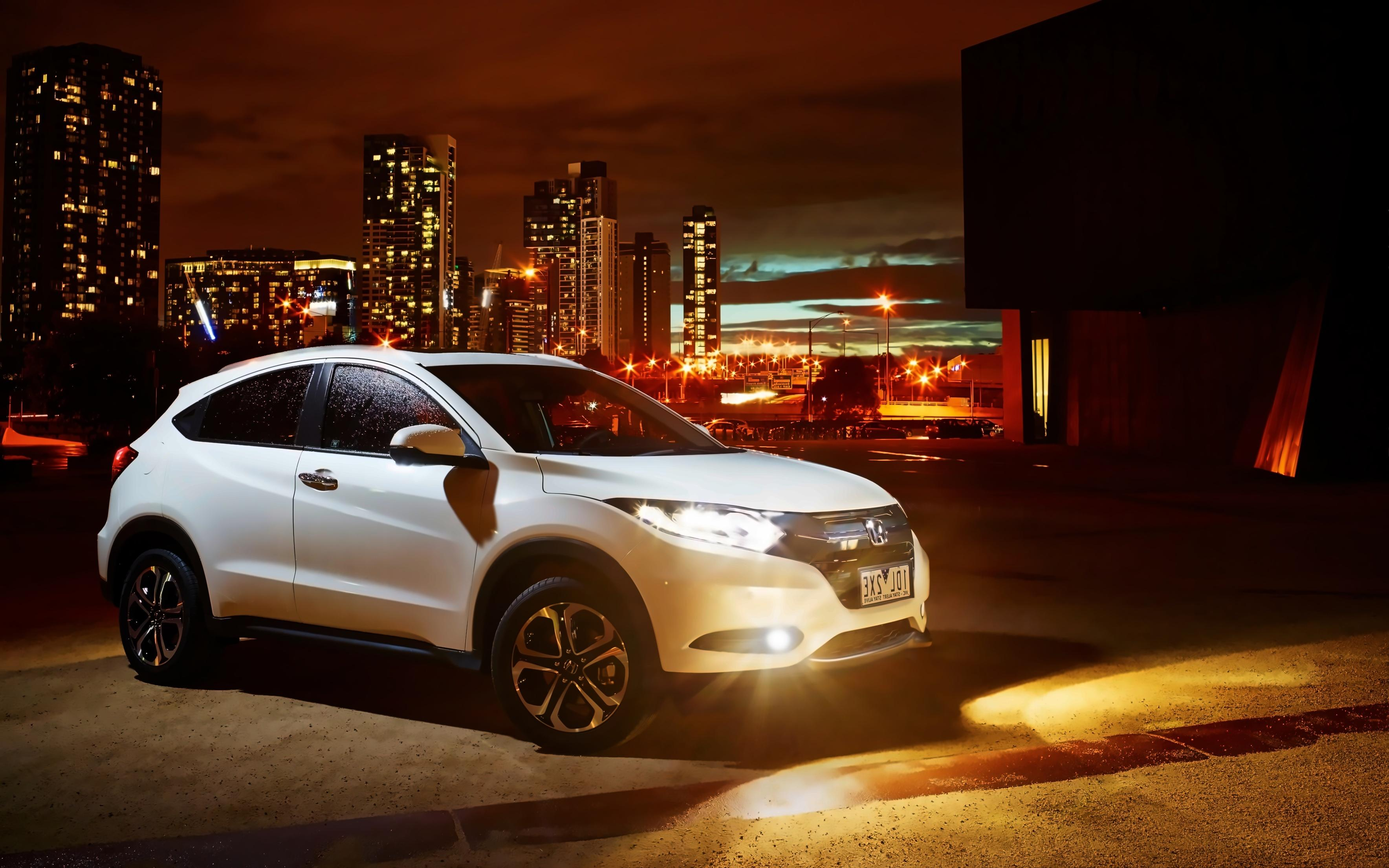Car hood: (529, 444, 918, 515)
Driver-s door - -F-R-: (293, 336, 468, 657)
Fender - -F-R-: (466, 406, 651, 660)
Fender - -R-R-: (118, 440, 178, 538)
Front bumper: (644, 558, 959, 689)
Headlight - -R-: (599, 489, 796, 568)
Passenger-s door - -R-R-: (177, 346, 294, 616)
Rear bumper: (59, 491, 141, 606)
Rear light - -R-: (102, 432, 150, 491)
Side bumper - -R-: (195, 605, 501, 684)
Side mirror - -R-: (387, 417, 482, 481)
